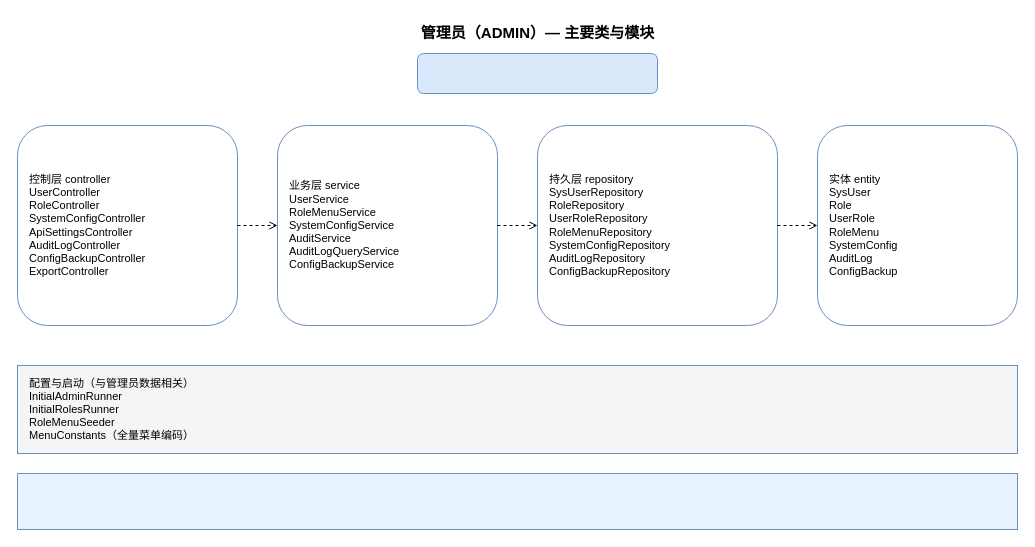
Image size: 1035x547. Some labels were removed from this diagram. Here are the shapes that lost their labels. From the top down, the centre of each, then its label:
At point 537,73: "管理员域".
At point 517,501: "公共：登录鉴权（管理员亦使用） AuthController · AuthTokenService · AuthTokenInterceptor".
